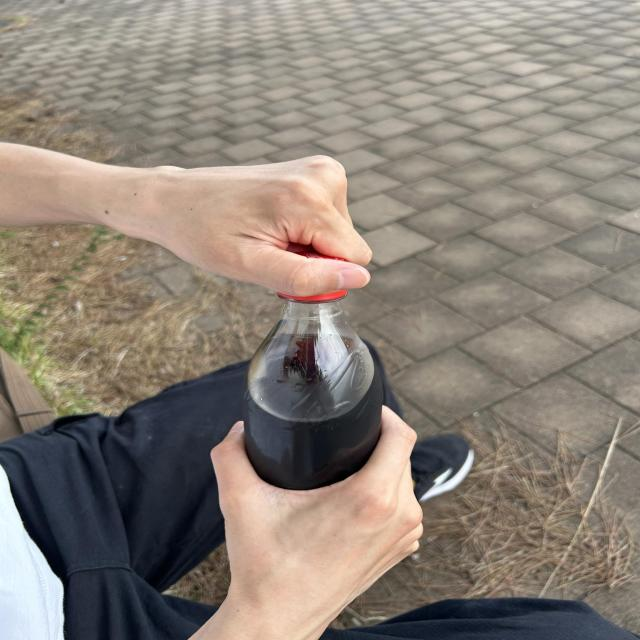high: (242, 293, 384, 490)
